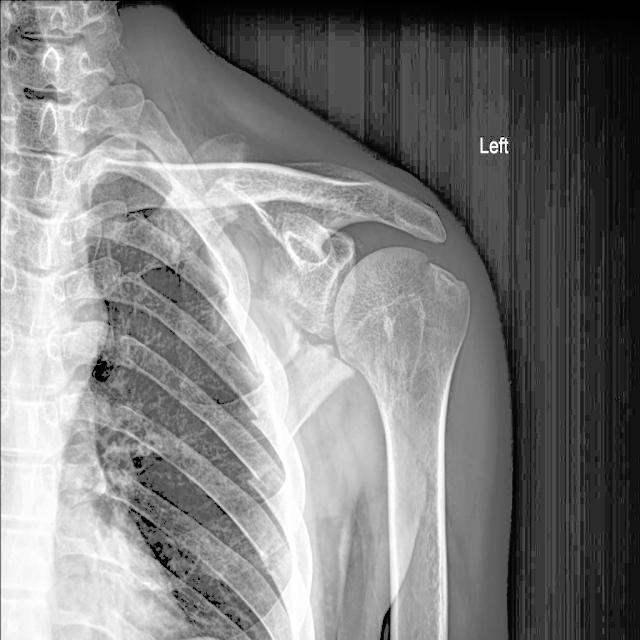Comminuted Fracture: (231, 165, 323, 280), (404, 190, 436, 326), (513, 206, 578, 253), (500, 272, 533, 312)
